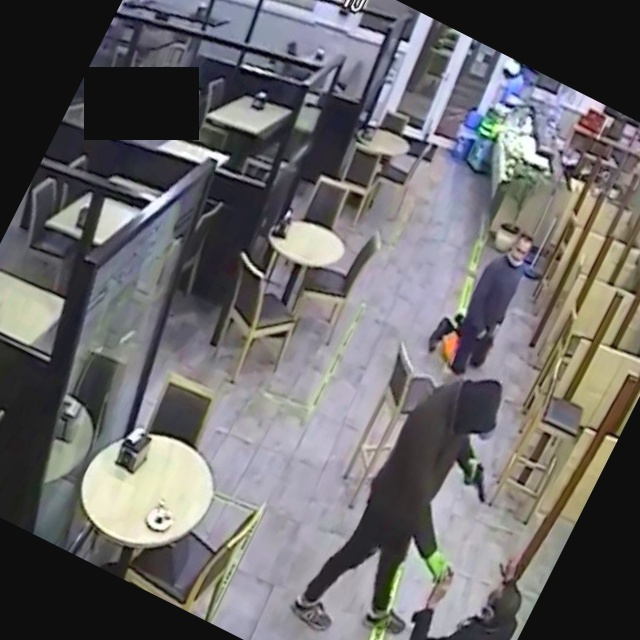gun: (436, 444, 513, 526)
